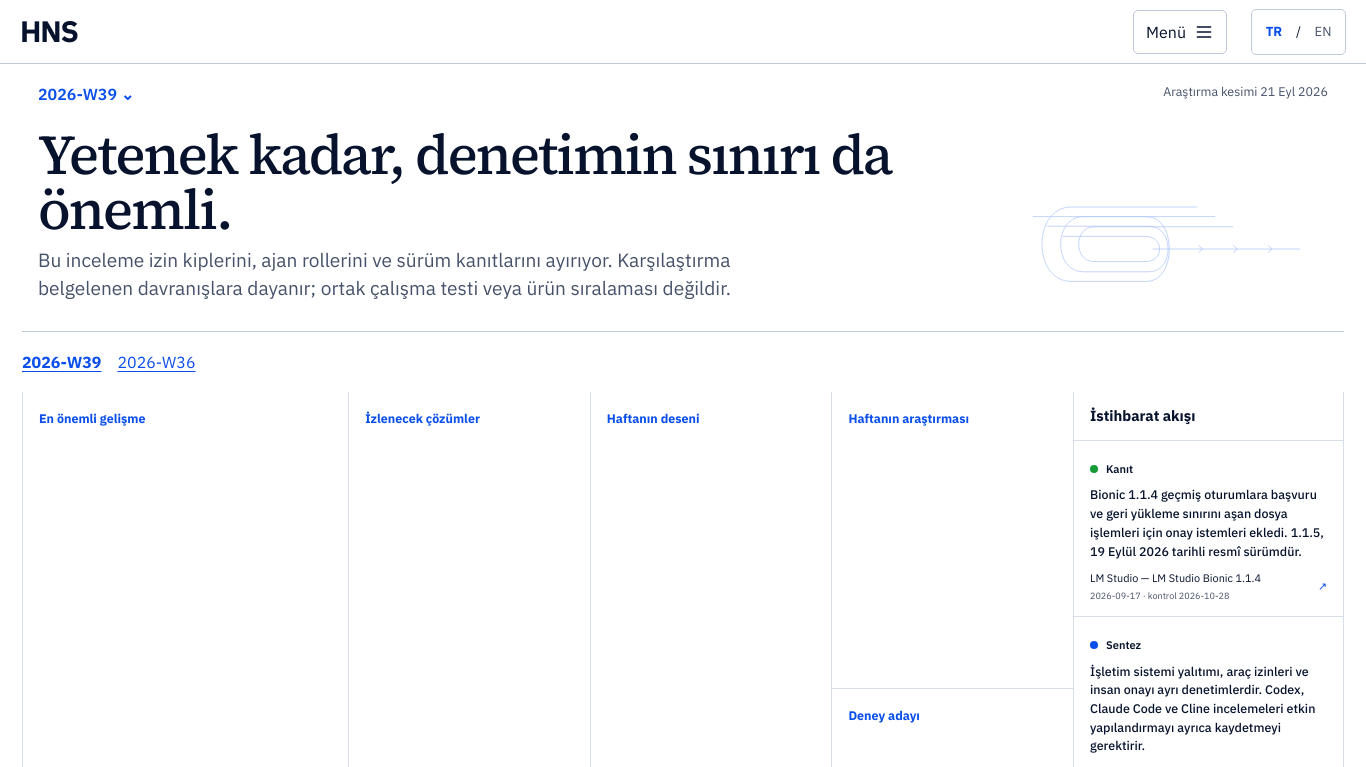
Test: Weekly Intelligence › discloses module content with an accessible mobile-compatible control
Step 1. Click the button "En önemli gelişme" → (92, 418), box [23,392,348,442]
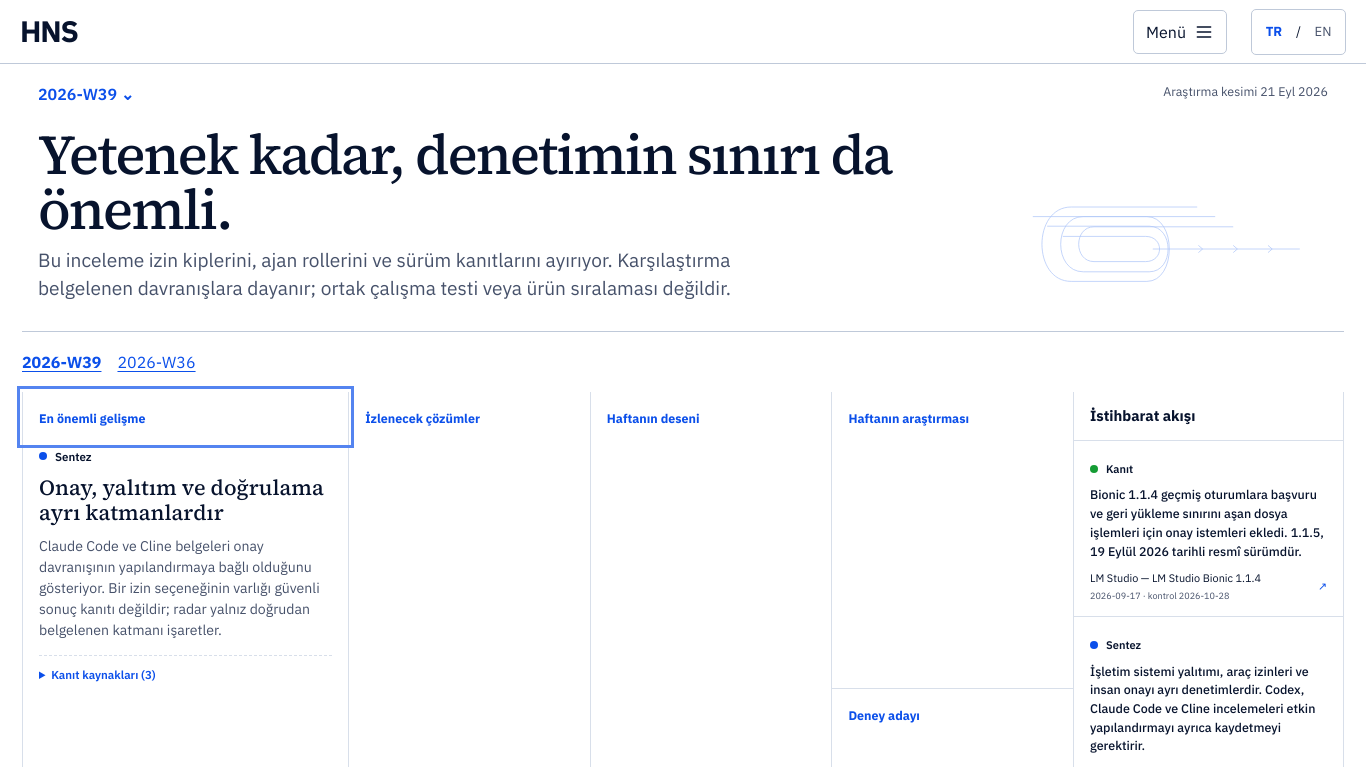
Expected: the heading "Onay, yalıtım ve doğrulama ayrı katmanlardır" is shown, [39,475,332,526]
